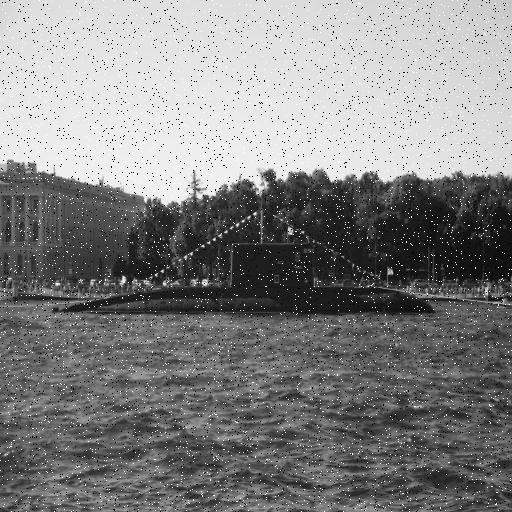submarine: (59, 238, 439, 316)
